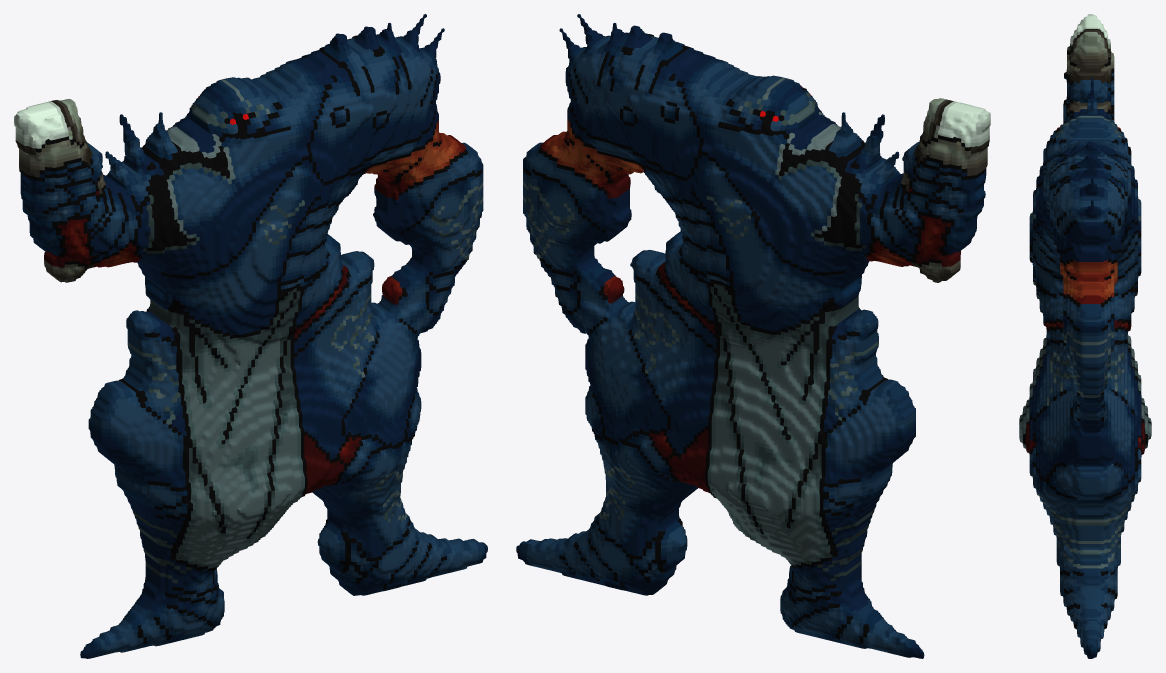
Rendered from Fight_722_2_04.obj.
3 views of the same model, side by side, from view 1: azimuth 30°, elevation 25°; view 2: azimuth 150°, elevation 25°; view 3: azimuth 270°, elevation 25° (orthographic). The views are drawn at different scales.
Bounding box in the file's own units: 13.18 × 15 × 3.9.
1 material, 1 textured.
